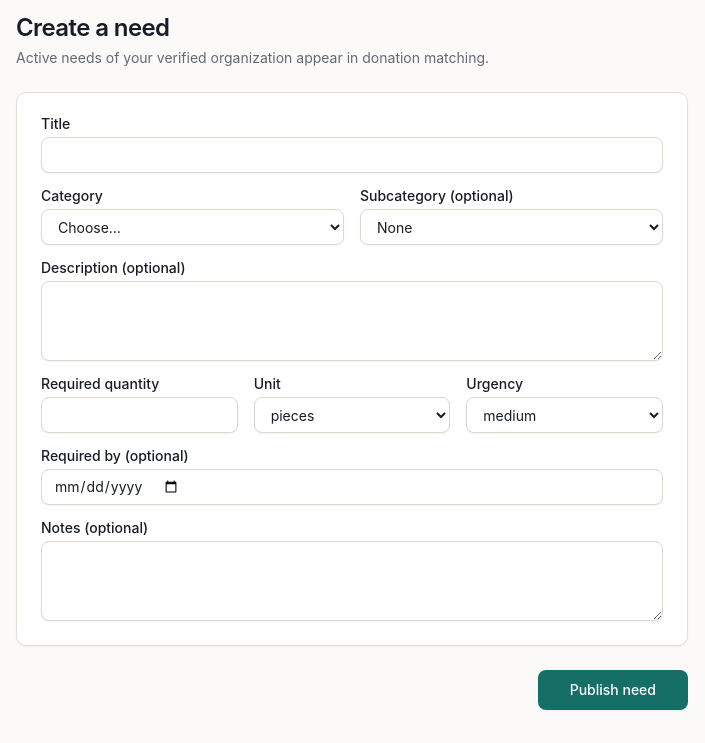
it: NeedFormPage (create) › blocks submission without a category and with an invalid quantity
The width and height of the screenshot is (705, 743).
In the field labelled "Title": point(352, 155) [41,137,663,173], type "Blankets needed"
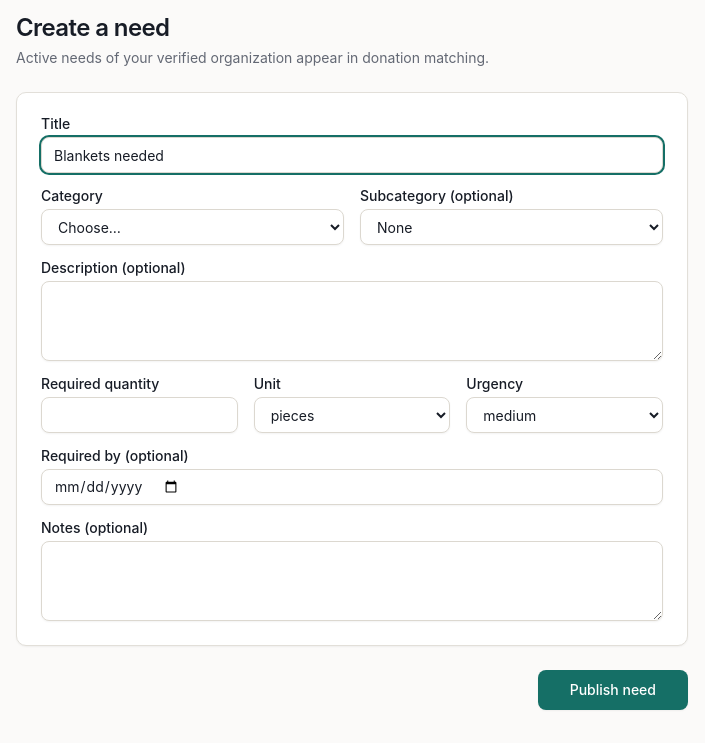
In the number field labelled "Required quantity": point(139, 415) [41,397,238,433], type "0"
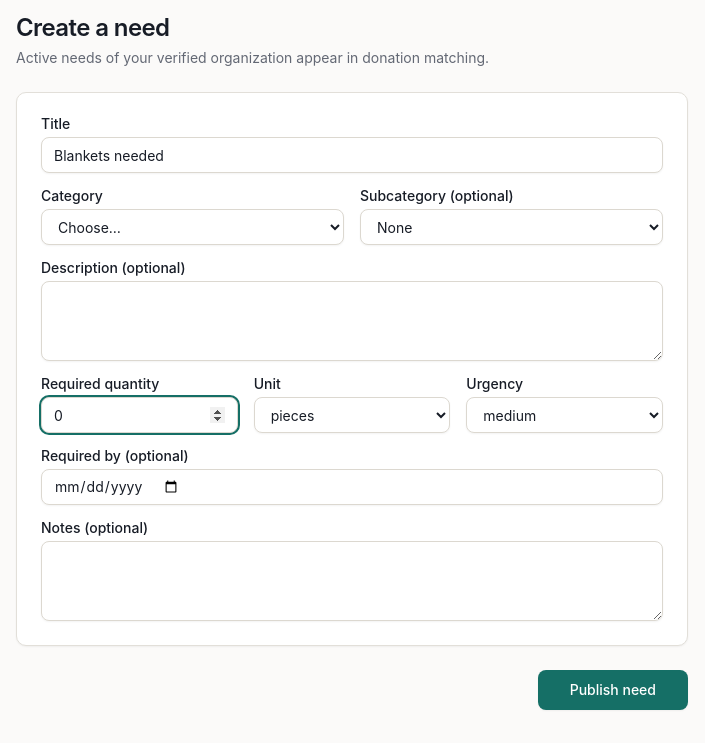
Click the button "Publish need": point(613, 690) [538,670,688,710]
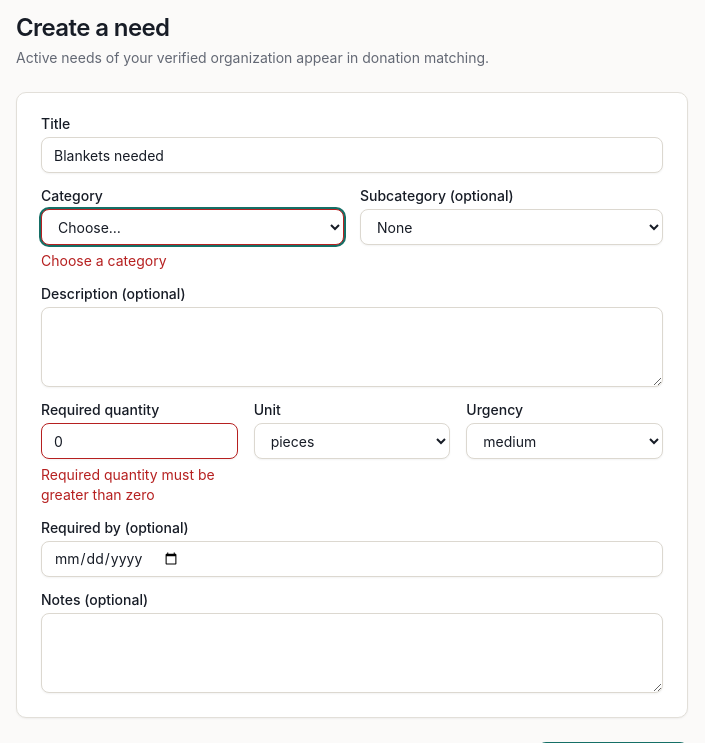
expect the text "Choose a category" is shown: met, box [41,252,166,269]
expect the text "Required quantity must be greater than zero" is shown: met, box [41,465,238,505]
